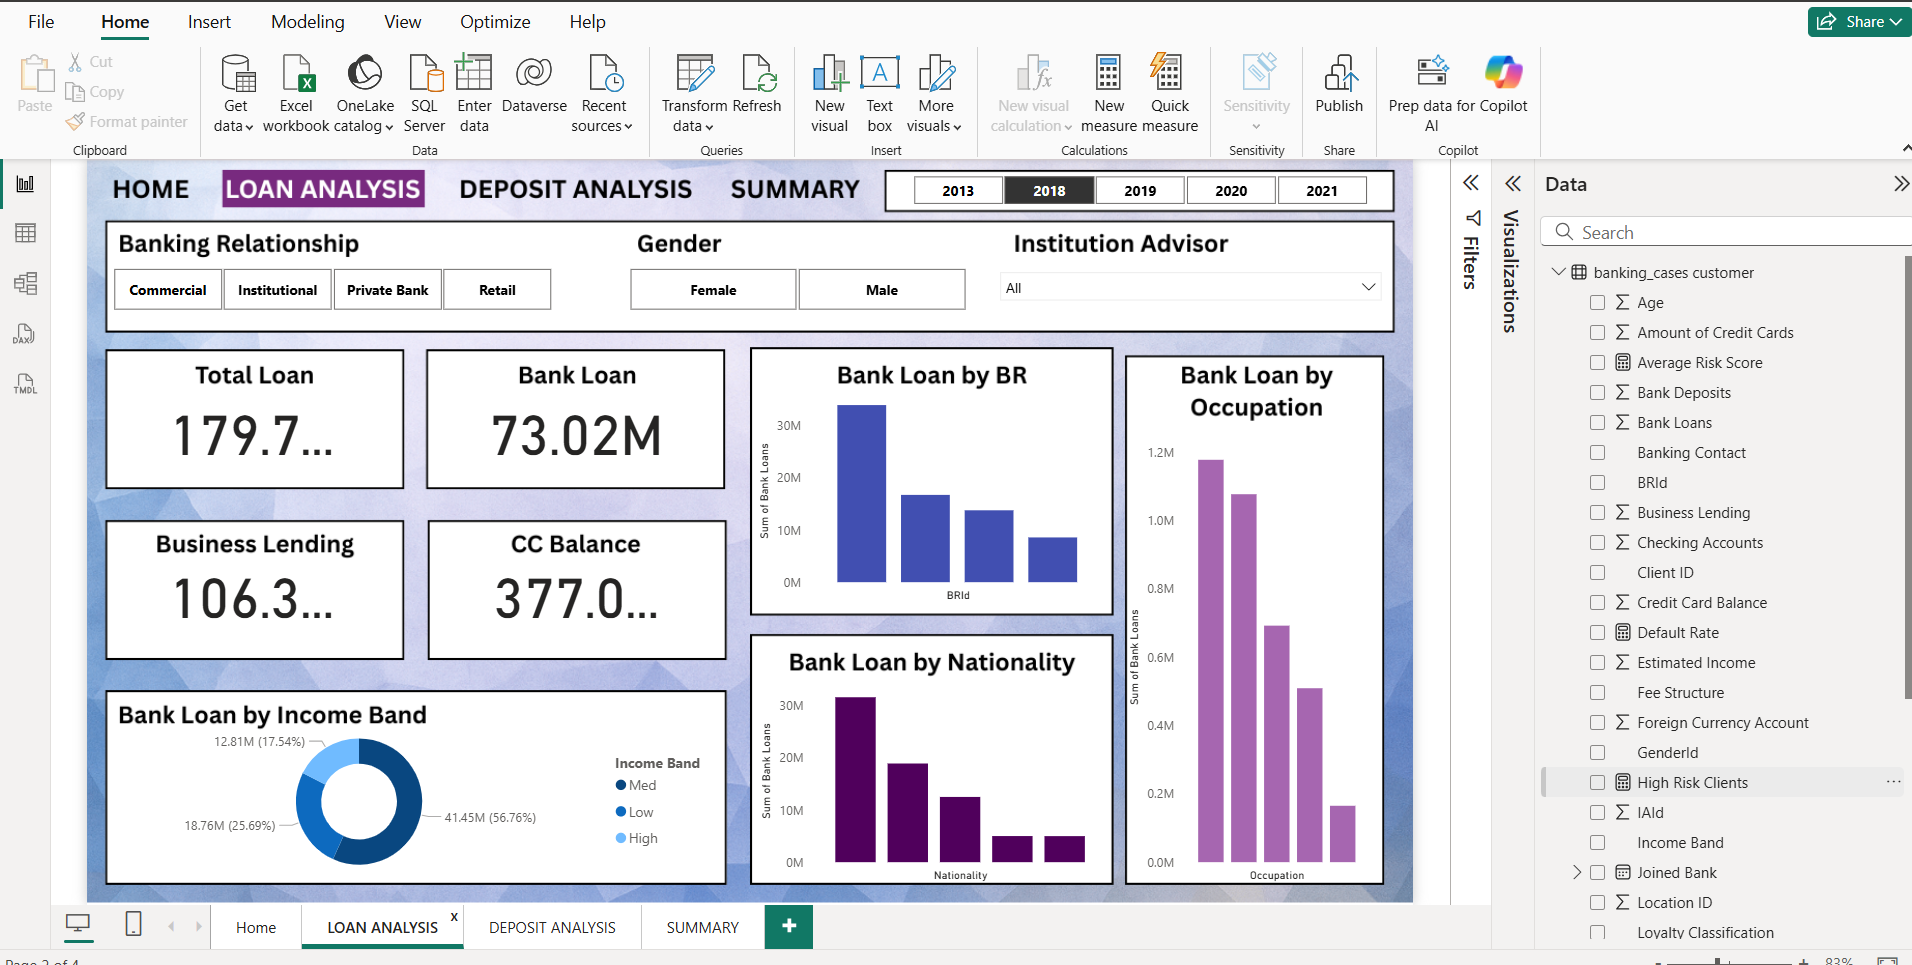

The dashboard page shown, as its layout file describes it:
{"tool":"powerbi","page":{"name":"LOAN ANALYSIS","canvas":[1280,720],"ordinal":1},"visuals":[{"type":"actionButton","box":[11,8.2,105.7,39.8],"z":0},{"type":"actionButton","box":[352.7,8.2,237.4,39.8],"z":1000},{"type":"actionButton","box":[614.8,6.9,140,39.8],"z":2000},{"type":"slicer","fields":{"Values":["banking_cases customer.Year of Joining"]},"box":[772.6,9.6,487.1,35.7],"z":3000},{"type":"card","fields":{"Values":["banking_cases customer.Total loan"]},"box":[64.5,218.2,189.4,82.3],"z":4000},{"type":"card","fields":{"Values":["Sum(banking_cases customer.Bank Loans)"]},"box":[377.4,218.2,189.4,82.3],"z":5000},{"type":"card","fields":{"Values":["Sum(banking_cases customer.Business Lending)"]},"box":[64.5,376,189.4,82.3],"z":6000},{"type":"card","fields":{"Values":["Sum(banking_cases customer.Credit Card Balance)"]},"box":[377.4,376,189.4,82.3],"z":7000},{"type":"donutChart","fields":{"Category":["banking_cases customer.Income Band"],"Y":["Sum(banking_cases customer.Bank Loans)"]},"box":[11,537.9,603.8,164.7],"z":8000},{"type":"columnChart","fields":{"Y":["Sum(banking_cases customer.Bank Loans)"],"Category":["banking_cases customer.BRId"]},"box":[643.6,218.2,344.4,214.1],"z":9000},{"type":"columnChart","fields":{"Y":["Sum(banking_cases customer.Bank Loans)"],"Category":["banking_cases customer.Nationality"]},"box":[644.9,488.5,344.4,214.1],"z":10000},{"type":"columnChart","fields":{"Y":["Sum(banking_cases customer.Bank Loans)"],"Category":["banking_cases customer.Occupation"]},"box":[1000.3,269,242.9,433.6],"z":11000},{"type":"slicer","fields":{"Values":["banking_cases customer.GenderId"]},"box":[498.1,98.8,373.2,53.5],"z":12000},{"type":"slicer","fields":{"Values":["banking_cases customer.BRId"]},"box":[0,98.8,472,53.5],"z":13000},{"type":"slicer","fields":{"Values":["banking_cases customer.IAId"]},"box":[871.4,98.8,388.3,53.5],"z":14000}]}

Visuals, with their boxes on the page's 1280x720 design canvas (x1, y1, x2, y2). These are canvas units, not pixel positions in the 1912x965 screenshot, which may show the page scaled, cropped or inside an application window:
actionButton: {"x1": 11, "y1": 8, "x2": 117, "y2": 48}
actionButton: {"x1": 353, "y1": 8, "x2": 590, "y2": 48}
actionButton: {"x1": 615, "y1": 7, "x2": 755, "y2": 47}
slicer - banking_cases customer.Year of Joining: {"x1": 773, "y1": 10, "x2": 1260, "y2": 45}
card - banking_cases customer.Total loan: {"x1": 64, "y1": 218, "x2": 254, "y2": 300}
card - Sum(banking_cases customer.Bank Loans): {"x1": 377, "y1": 218, "x2": 567, "y2": 300}
card - Sum(banking_cases customer.Business Lending): {"x1": 64, "y1": 376, "x2": 254, "y2": 458}
card - Sum(banking_cases customer.Credit Card Balance): {"x1": 377, "y1": 376, "x2": 567, "y2": 458}
donutChart - banking_cases customer.Income Band x Sum(banking_cases customer.Bank Loans): {"x1": 11, "y1": 538, "x2": 615, "y2": 703}
columnChart - Sum(banking_cases customer.Bank Loans) x banking_cases customer.BRId: {"x1": 644, "y1": 218, "x2": 988, "y2": 432}
columnChart - Sum(banking_cases customer.Bank Loans) x banking_cases customer.Nationality: {"x1": 645, "y1": 488, "x2": 989, "y2": 703}
columnChart - Sum(banking_cases customer.Bank Loans) x banking_cases customer.Occupation: {"x1": 1000, "y1": 269, "x2": 1243, "y2": 703}
slicer - banking_cases customer.GenderId: {"x1": 498, "y1": 99, "x2": 871, "y2": 152}
slicer - banking_cases customer.BRId: {"x1": 0, "y1": 99, "x2": 472, "y2": 152}
slicer - banking_cases customer.IAId: {"x1": 871, "y1": 99, "x2": 1260, "y2": 152}
